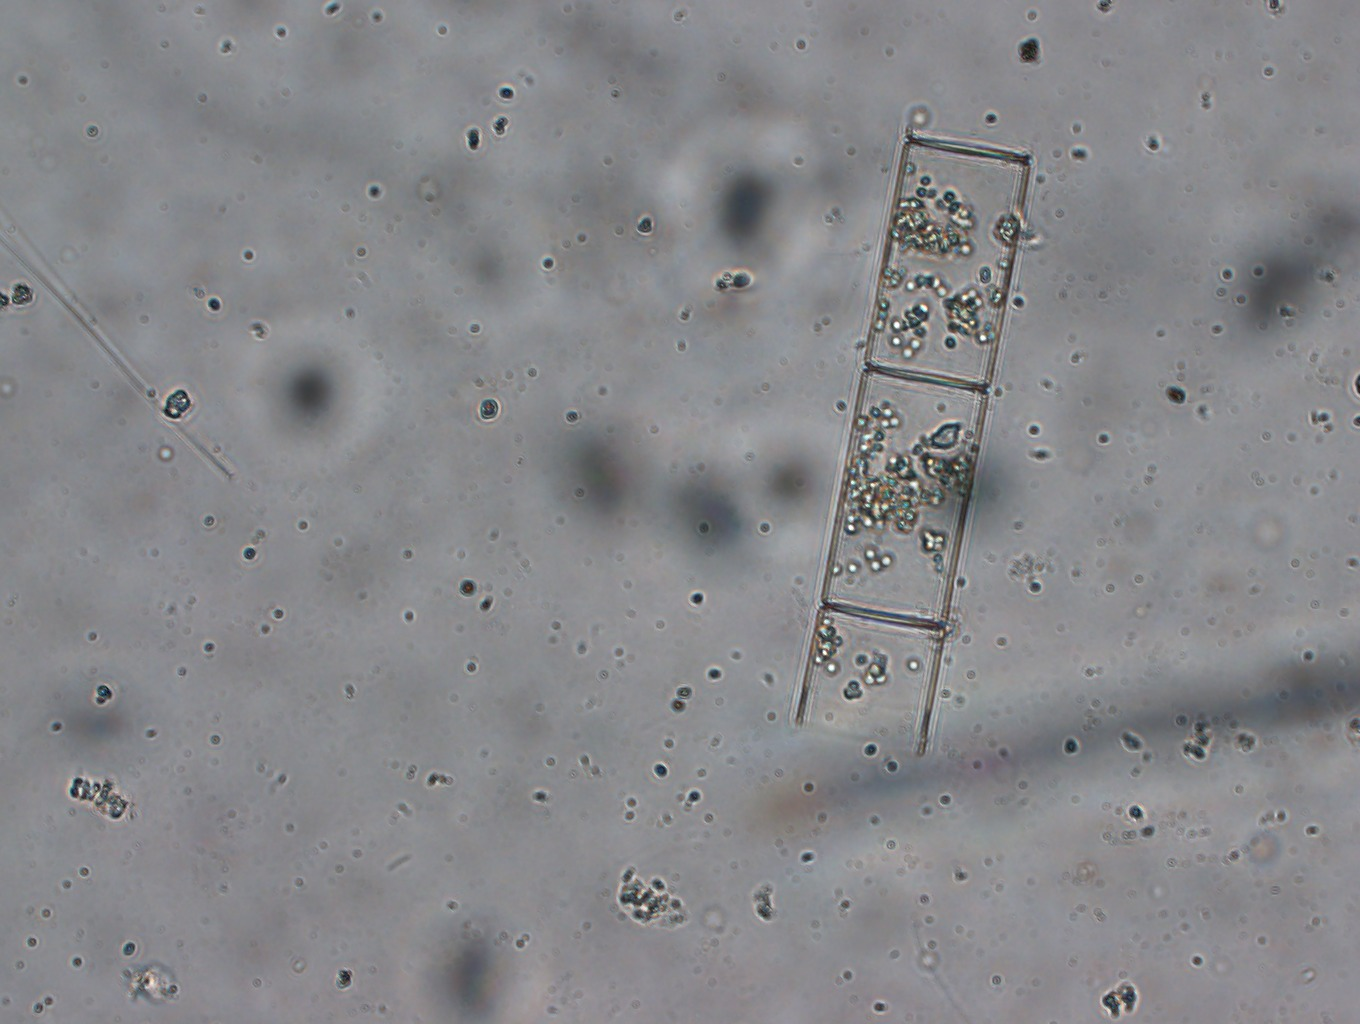guinardia flaccida: (792, 123, 1030, 753)
